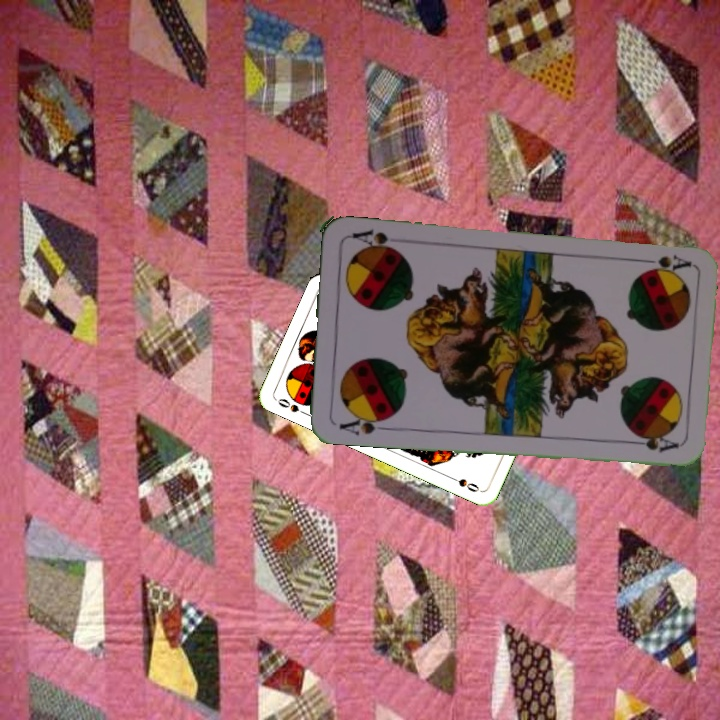SA: (335, 410, 391, 437), (634, 250, 693, 274)
SO: (274, 394, 310, 418)
